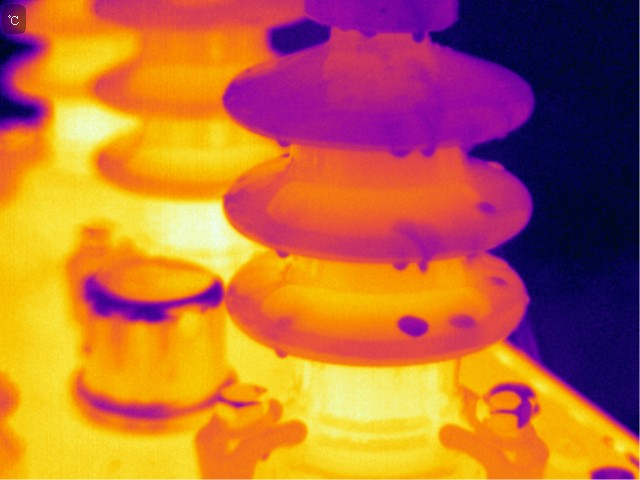Water: (394, 312, 432, 339), (356, 23, 378, 46), (447, 313, 475, 329), (416, 248, 433, 271), (410, 26, 428, 46), (487, 274, 509, 288), (389, 258, 409, 272), (387, 147, 412, 158), (274, 135, 292, 150), (478, 199, 494, 215), (274, 247, 292, 261), (421, 143, 437, 158), (274, 347, 290, 361)
